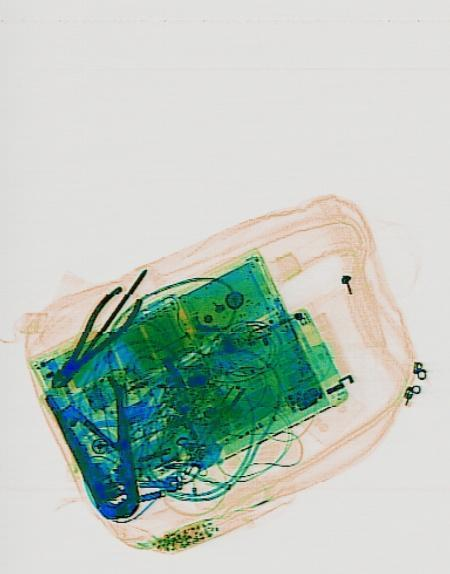Pliers: (42, 362, 158, 532), (36, 273, 148, 401)
